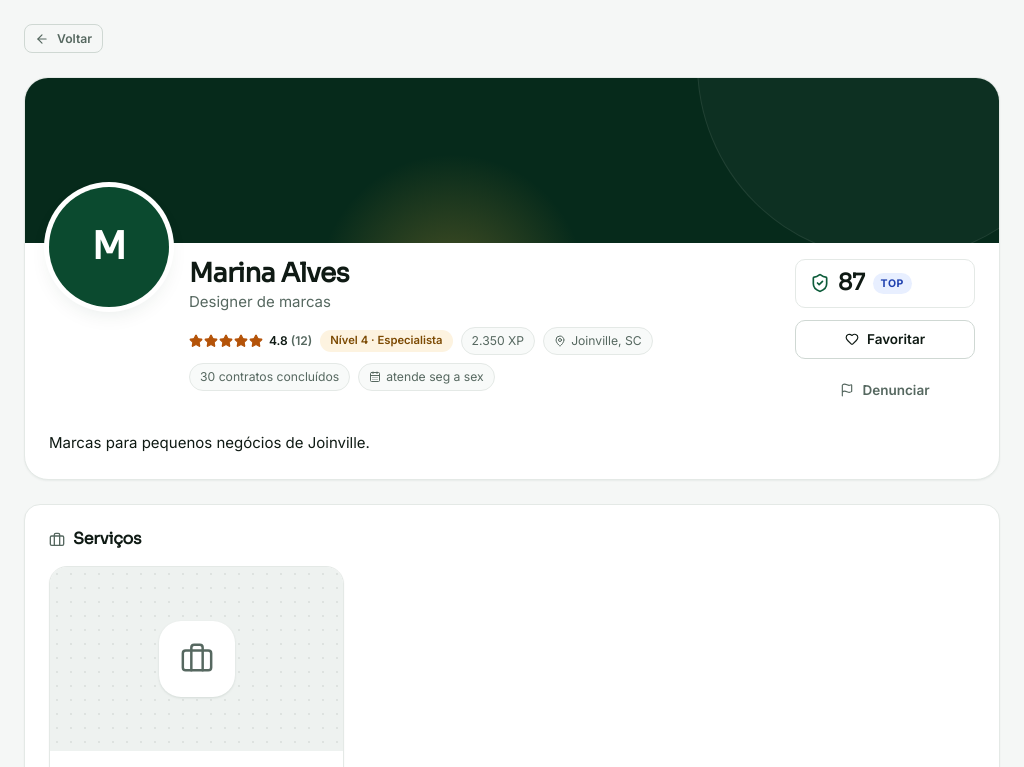
it: FreelancerView: favoritar › enquanto o favorito é gravado, o botão fica desabilitado (sem clique duplo)
Click the button "Favoritar".
click(885, 339)  # box x1=795 y1=320 x2=975 y2=359
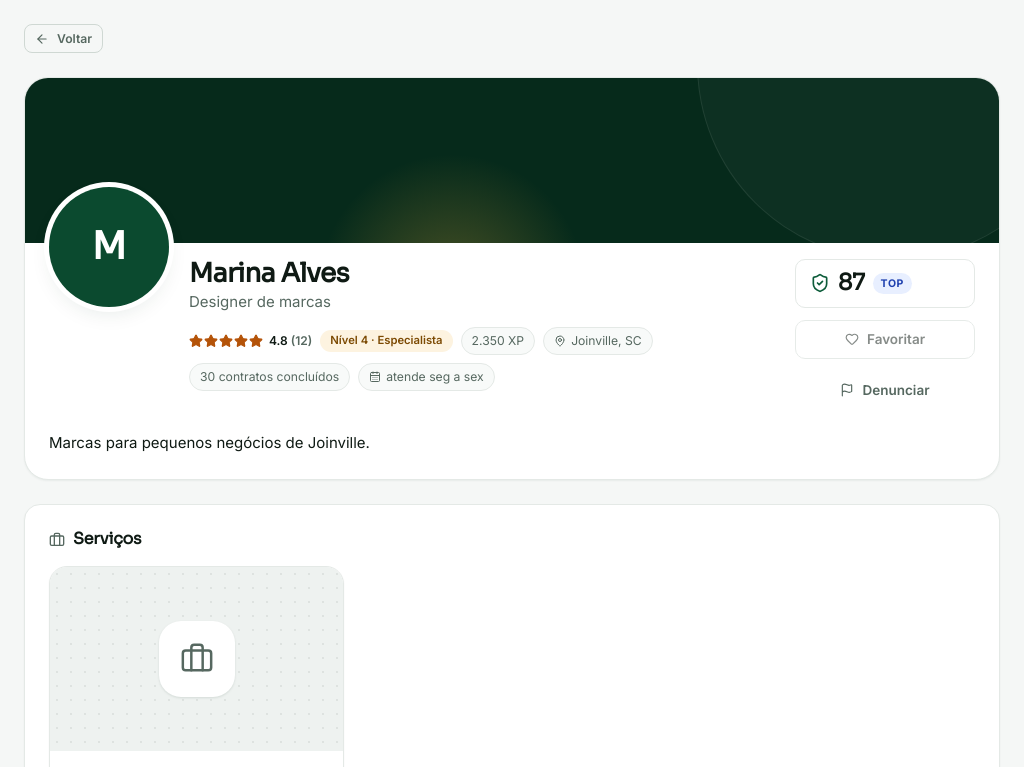
Result: the button "Favoritar" is disabled
Click the button "Favoritar".
click(885, 339)  # box x1=795 y1=320 x2=975 y2=359
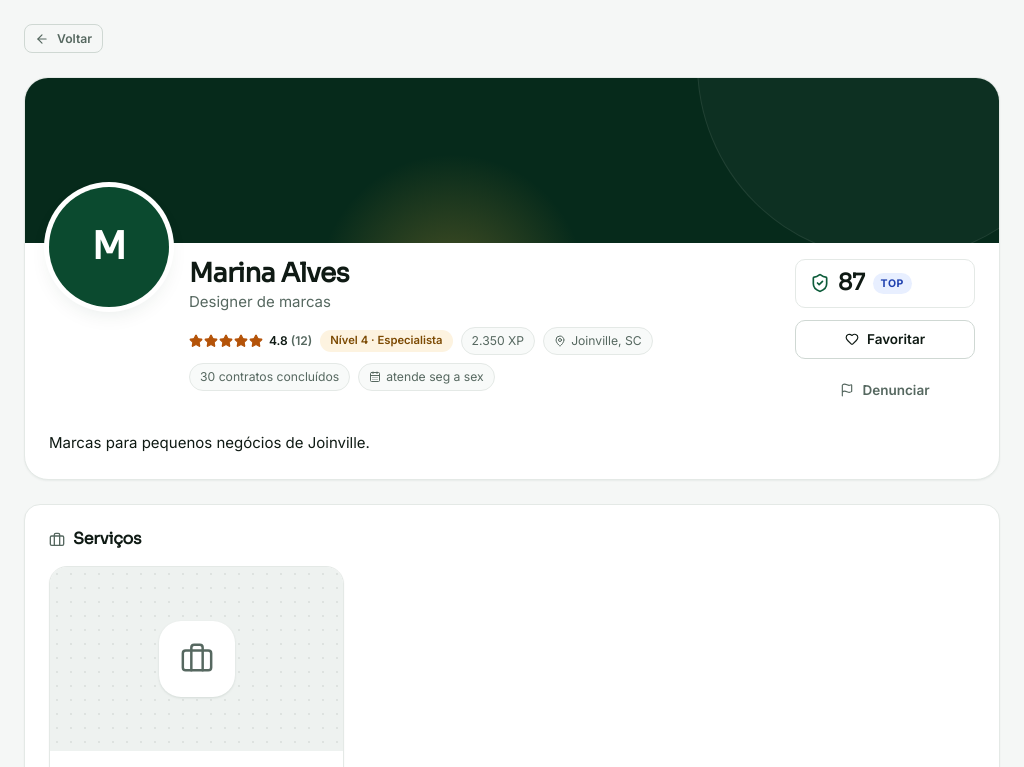
Result: the button "Favoritar" is enabled at x1=795 y1=320 x2=975 y2=359
